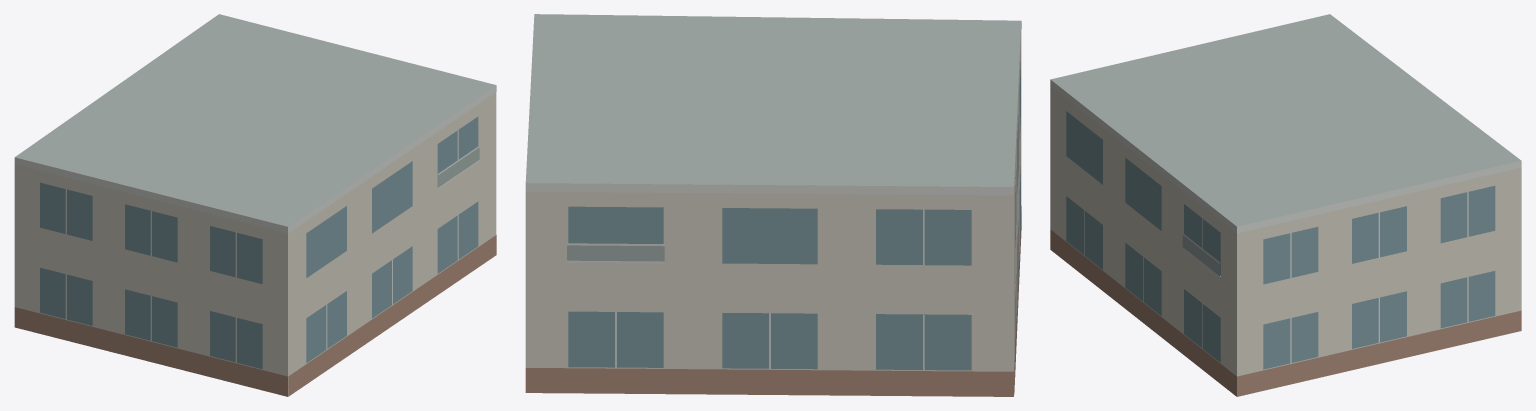
The model's file is survey-upis-33032697.glb.
3 views of the same model, side by side, from view 1: azimuth 30°, elevation 25°; view 2: azimuth 150°, elevation 25°; view 3: azimuth 270°, elevation 25° (orthographic). The views are drawn at different scales.
Visible parts, largest first — view 1: survey-upis-33032697.tmp; view 2: survey-upis-33032697.tmp; view 3: survey-upis-33032697.tmp.
Boxes of the visible parts, x1,y1,x2,y2 form: survey-upis-33032697.tmp: (14, 14, 496, 396); survey-upis-33032697.tmp: (525, 14, 1021, 396); survey-upis-33032697.tmp: (1050, 14, 1521, 396).
Size of the model in its own units: 16.35 by 6.1 by 15.31.
